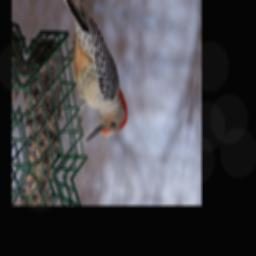Woodpecker: (50, 1, 141, 150)
